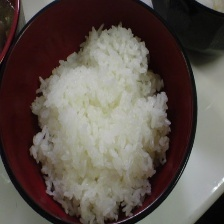rice: (29, 22, 172, 224)
